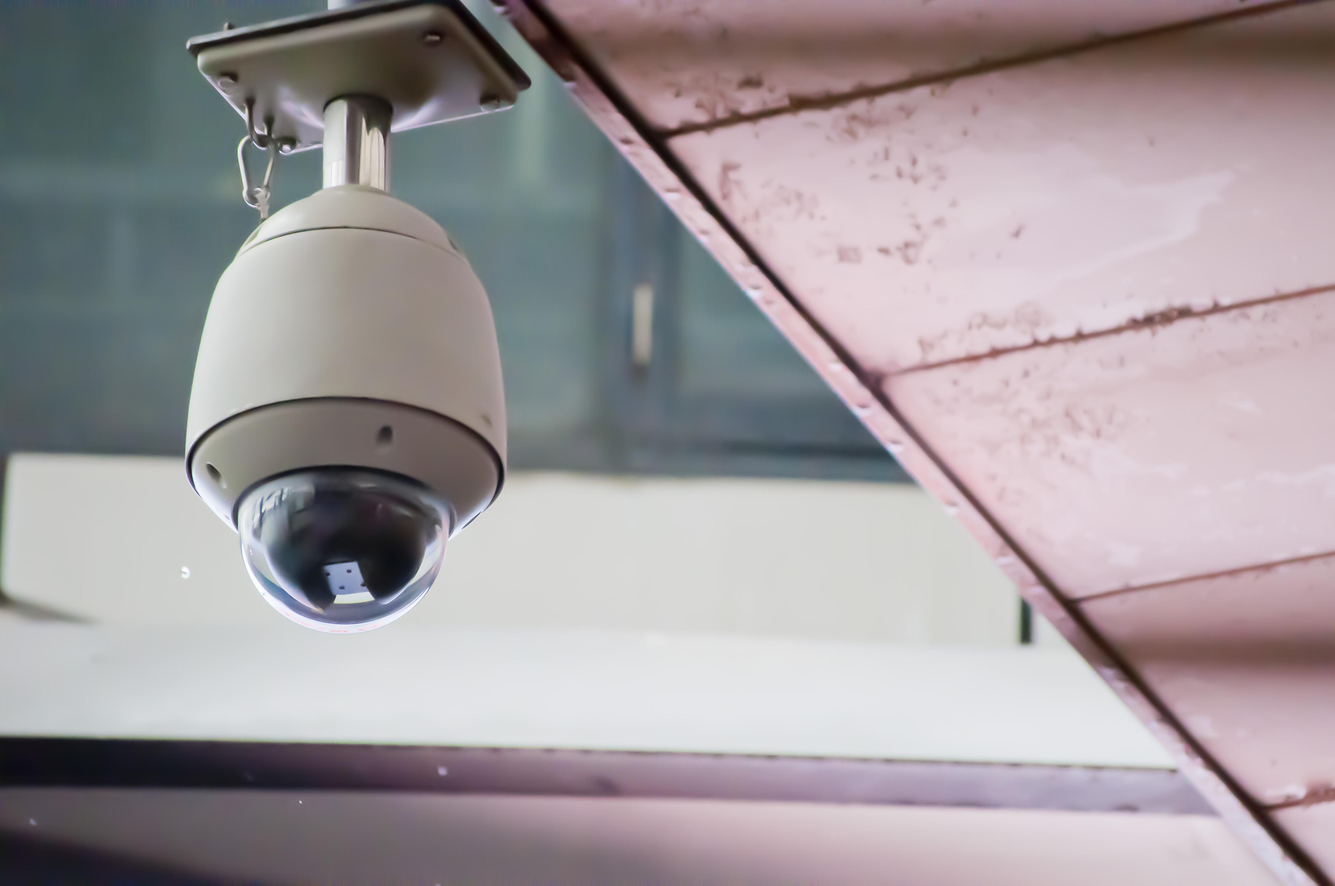maru: (175, 159, 531, 641)
